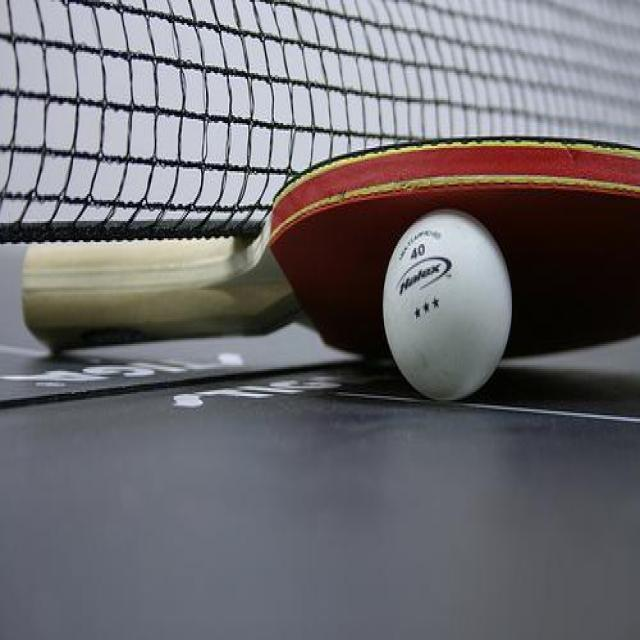ping-pong-ball: (381, 202, 514, 406)
